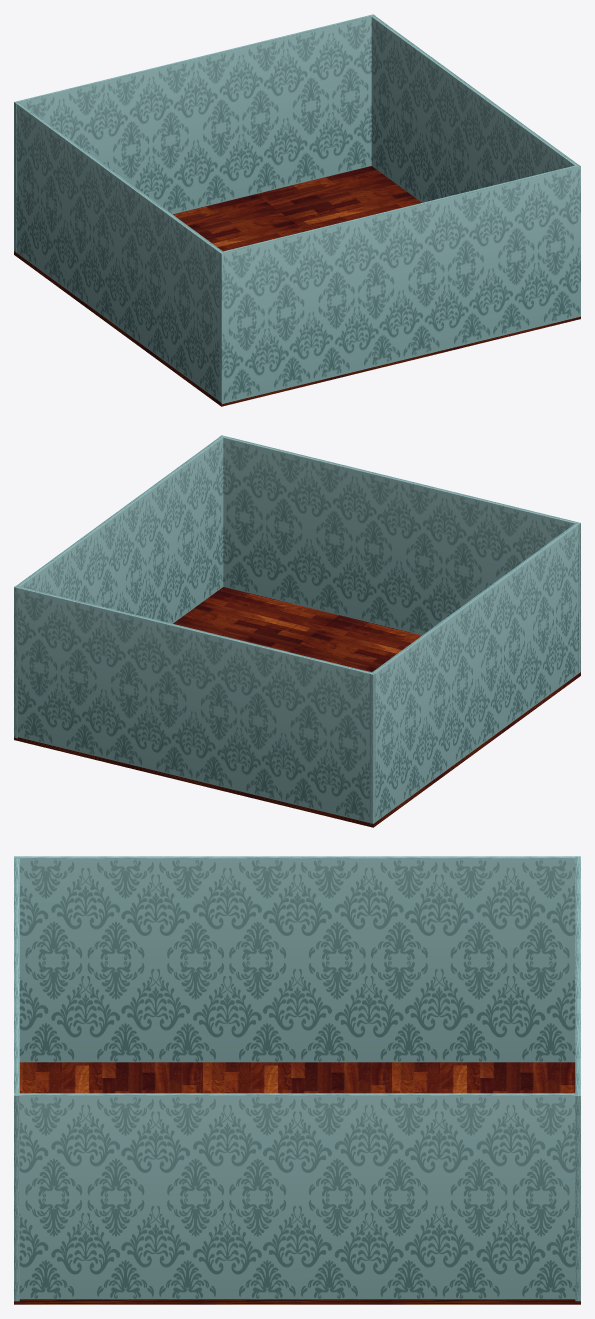
The model's file is floor and wall only.FBX.
The picture shows the model from 3 angles, top to bottom: view 1: azimuth 30°, elevation 25°; view 2: azimuth 150°, elevation 25°; view 3: azimuth 270°, elevation 25°; orthographic projection. The views are drawn at different scales.
Parts seen in each view (by area): view 1: Object006; view 2: Object006; view 3: Object006.
Part boxes in pixels (<box>): Object006: <box>14,14,580,406</box>; Object006: <box>14,435,580,827</box>; Object006: <box>14,856,580,1304</box>.
Bounding box in the file's own units: 394 × 160 × 394.
Materials: 2 (2 with a texture image).
